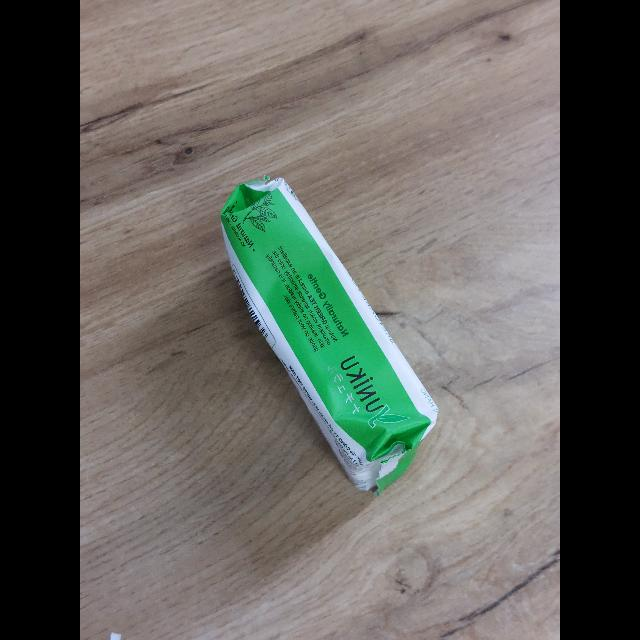khan_giay: (221, 177, 438, 492)
